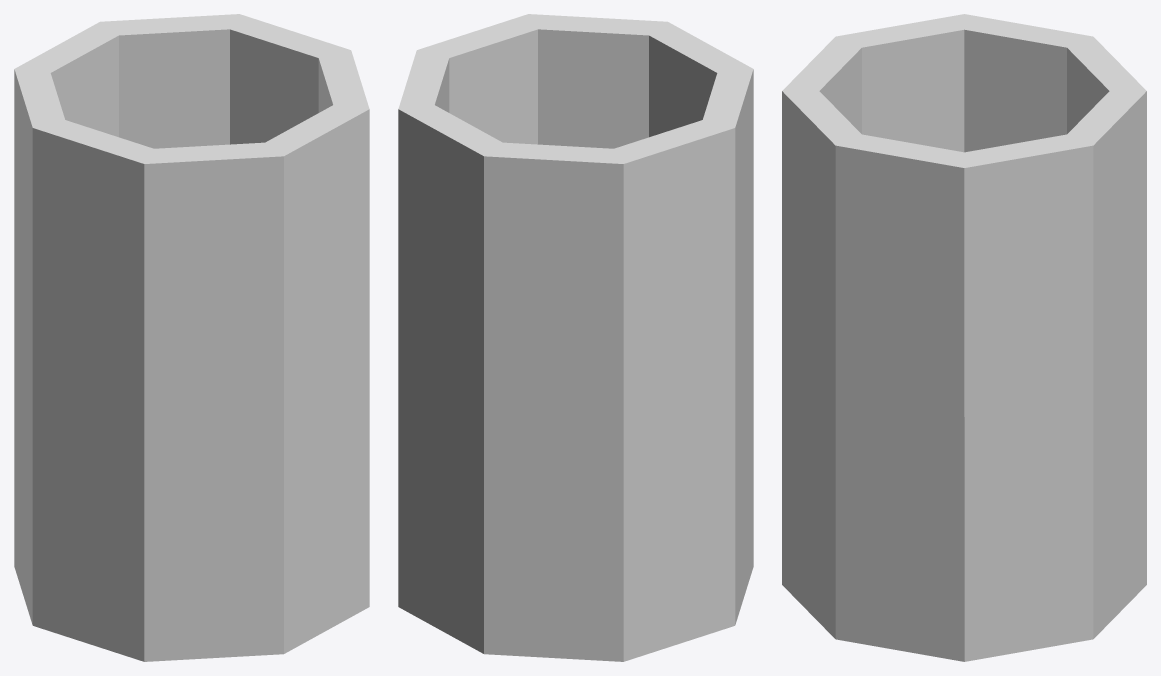
Rendered from ToothbrushCup_05.fbx.
3 views of the same model, side by side, from view 1: azimuth 30°, elevation 25°; view 2: azimuth 150°, elevation 25°; view 3: azimuth 270°, elevation 25° (orthographic).
Parts seen in each view (by area): view 1: ToothbrushCup_05; view 2: ToothbrushCup_05; view 3: ToothbrushCup_05.
Part boxes in pixels (<box>): ToothbrushCup_05: <box>14,14,369,661</box>; ToothbrushCup_05: <box>398,14,753,661</box>; ToothbrushCup_05: <box>782,14,1146,661</box>.
Size of the model in its own units: 10.39 by 15.52 by 10.39.
